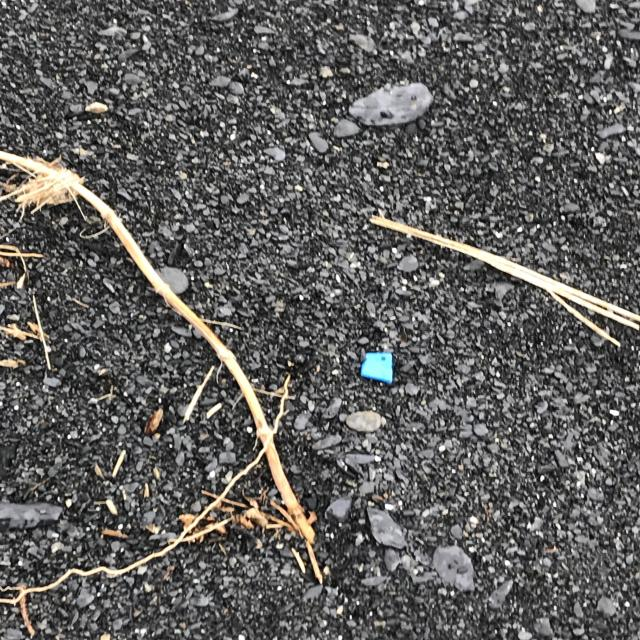Other plastic bottle: (359, 353, 393, 383)
